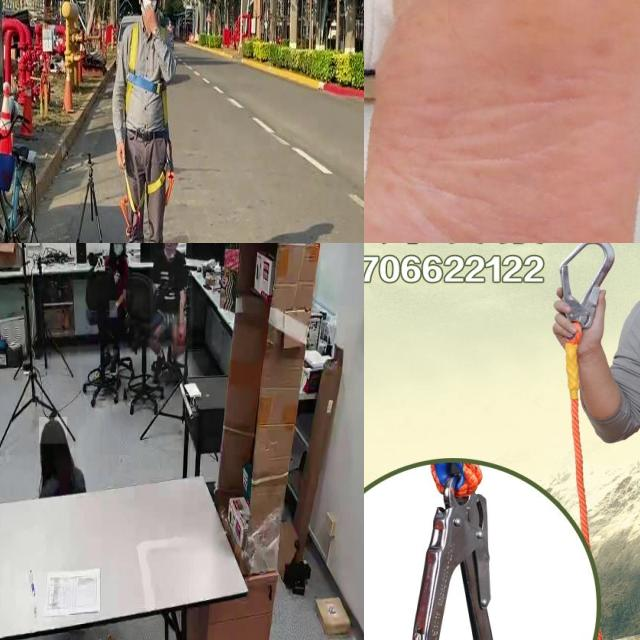Barefoots: (364, 0, 640, 243)
Harness: (126, 22, 167, 132)
face_mask: (111, 243, 122, 257)
face_nomask: (163, 243, 177, 257)
hand_noglove: (176, 322, 186, 347), (110, 300, 118, 318)
head_nohelmet: (39, 417, 67, 444)
person: (150, 243, 193, 381), (97, 243, 133, 392)
shoes: (151, 346, 167, 384)
